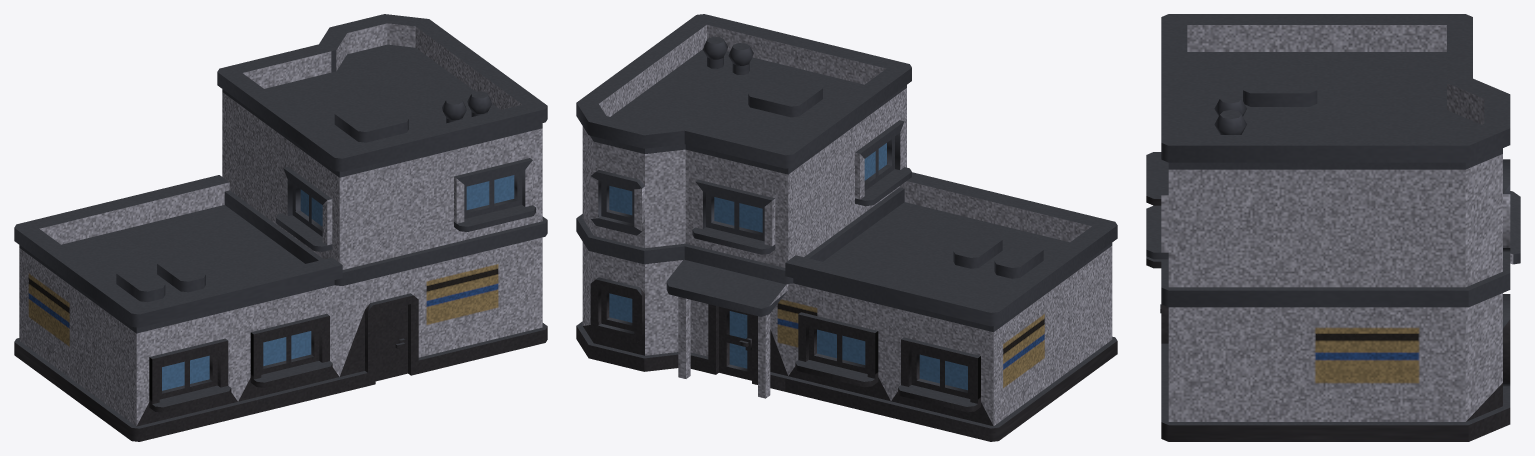
File: building-e-white-scuffed.glb
3 renders of one model, left to right at view 1: azimuth 30°, elevation 25°; view 2: azimuth 150°, elevation 25°; view 3: azimuth 270°, elevation 25°, orthographic. The views are drawn at different scales.
Visible parts, largest first — view 1: building-e-white-scuffed; view 2: building-e-white-scuffed; view 3: building-e-white-scuffed.
Part boxes in pixels (x1,y1,x2,y2): building-e-white-scuffed: [14, 14, 547, 441]; building-e-white-scuffed: [576, 14, 1117, 441]; building-e-white-scuffed: [1146, 14, 1520, 441].
Bounding box in the file's own units: 1.64 × 0.893 × 1.01.
1 material, 1 textured.
